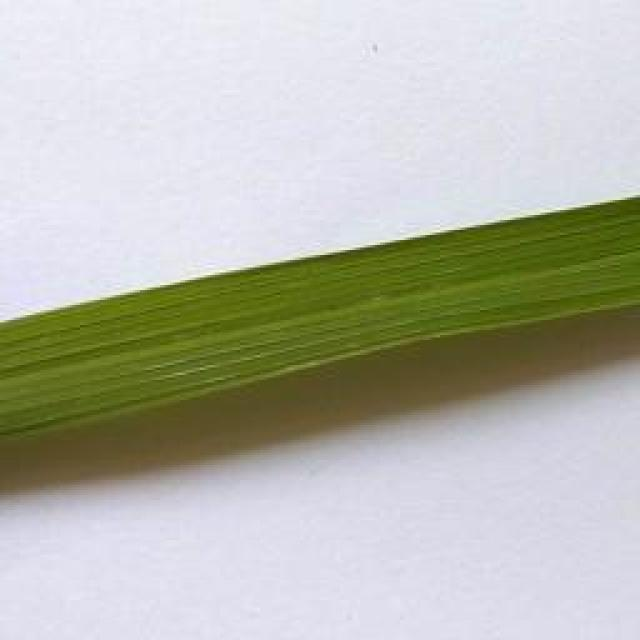Healthy-Plant: (0, 183, 640, 455)
